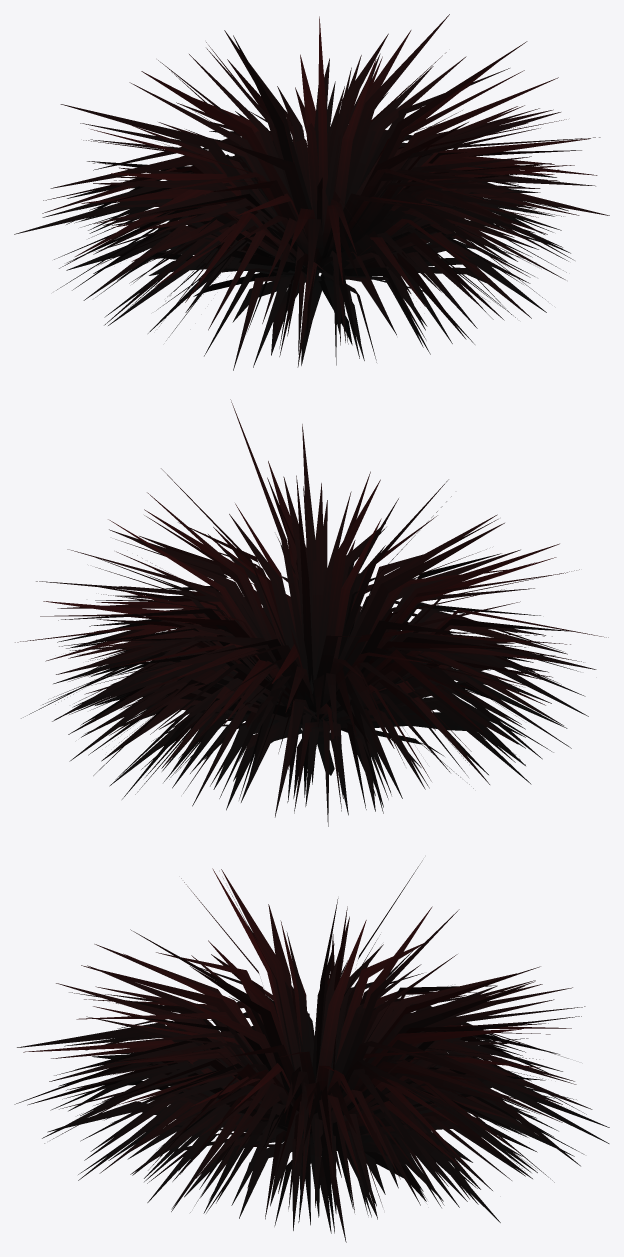
The model's file is shade_grass_v01_LOD1.glb.
3 renders of one model, top to bottom at view 1: azimuth 30°, elevation 25°; view 2: azimuth 150°, elevation 25°; view 3: azimuth 270°, elevation 25°, orthographic.
Visible parts, largest first — view 1: shade_grass_v01_LOD1; view 2: shade_grass_v01_LOD1; view 3: shade_grass_v01_LOD1.
Part boxes in pixels (bbox=[...]): shade_grass_v01_LOD1: bbox=[14, 14, 609, 370]; shade_grass_v01_LOD1: bbox=[15, 399, 608, 826]; shade_grass_v01_LOD1: bbox=[14, 860, 609, 1242].
Size of the model in its own units: 0.5967 by 0.2599 by 0.5965.
Materials: 1 (1 with a texture image).
